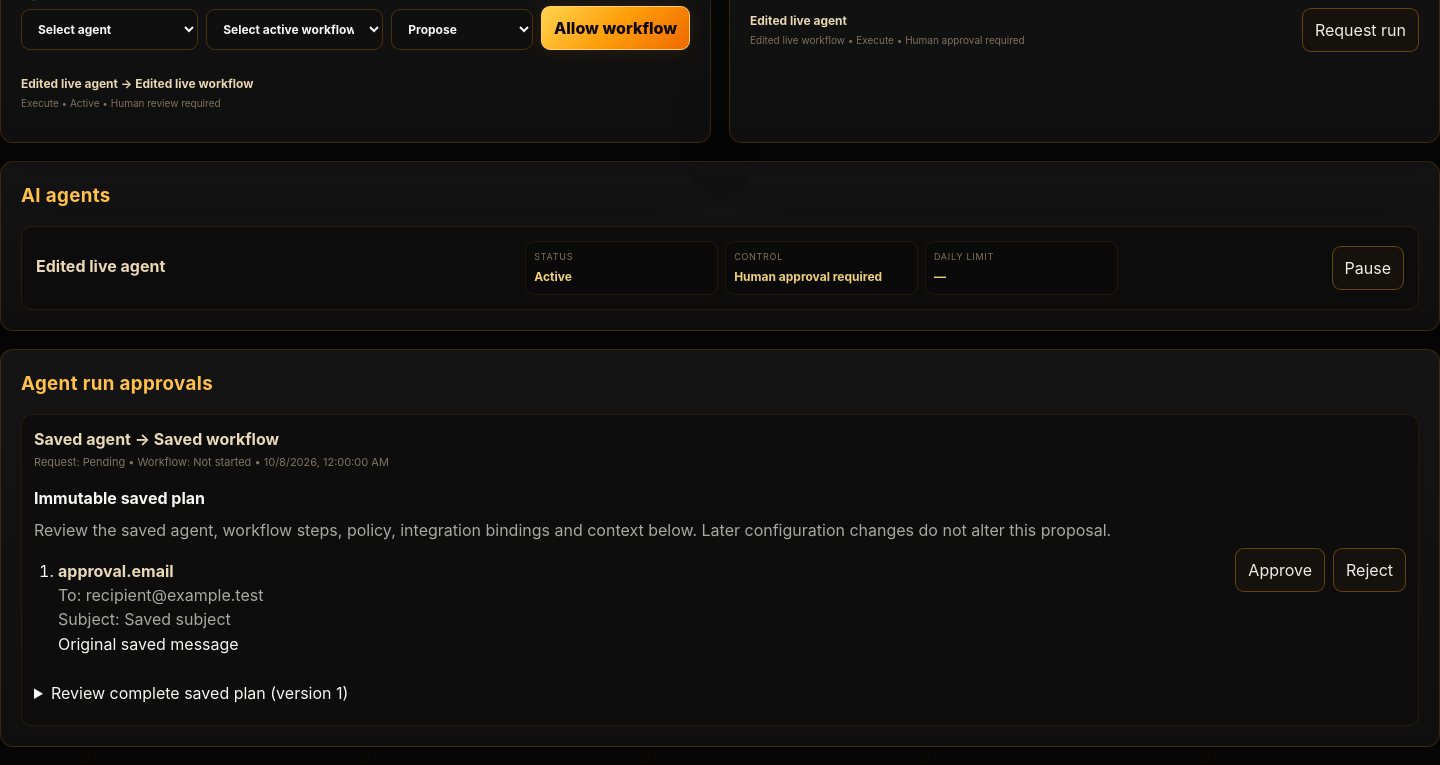
it: agent human review and immutable plan › confirms approval without claiming execution
(page scrolled)
Click the button "Approve" at (1280, 570), box [1235,548,1325,592]
(page scrolled)
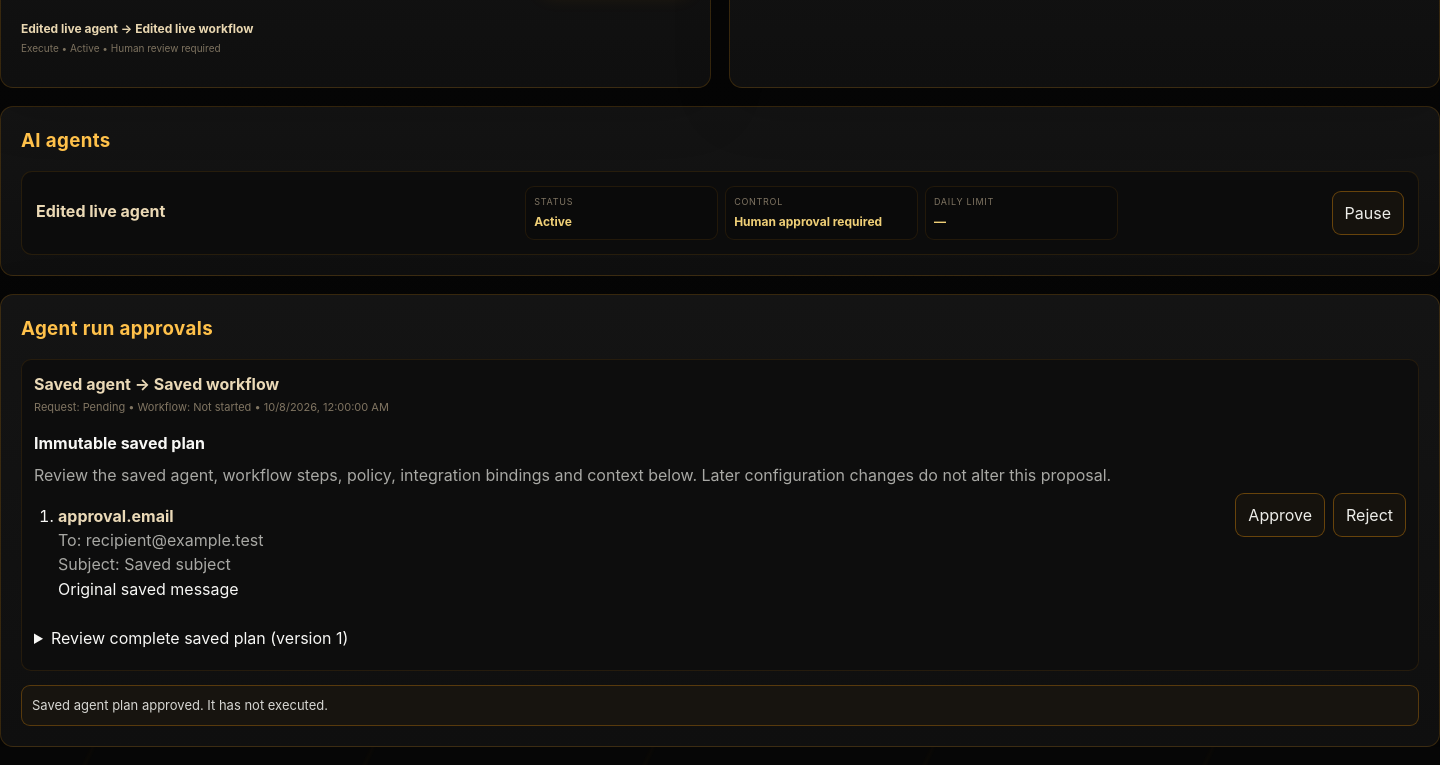
Result: the message shows "It has not executed" at [32,697,328,713]
